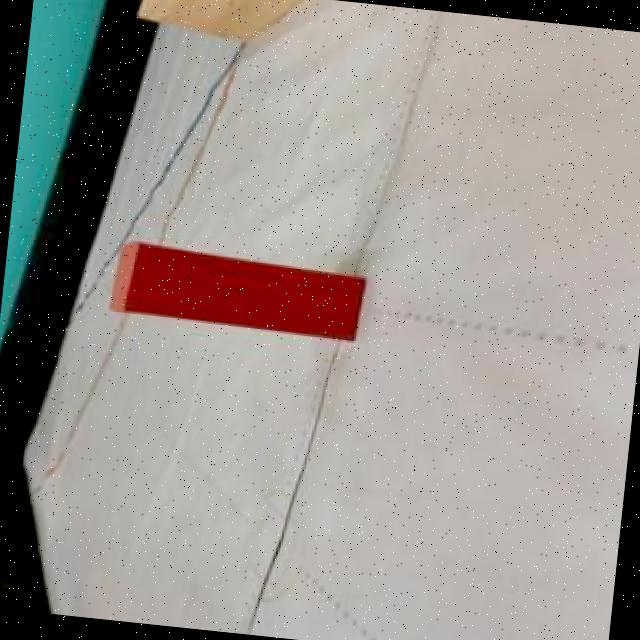redbox: (104, 238, 368, 339)
